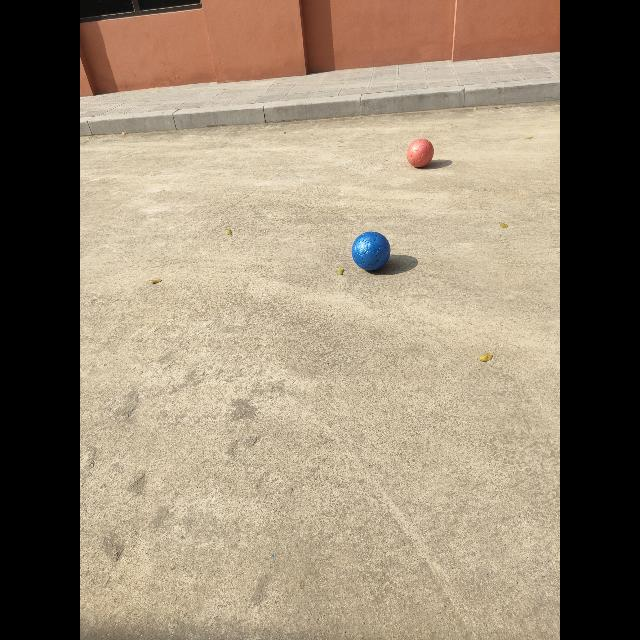B: (352, 231, 390, 271)
R: (406, 139, 434, 168)
